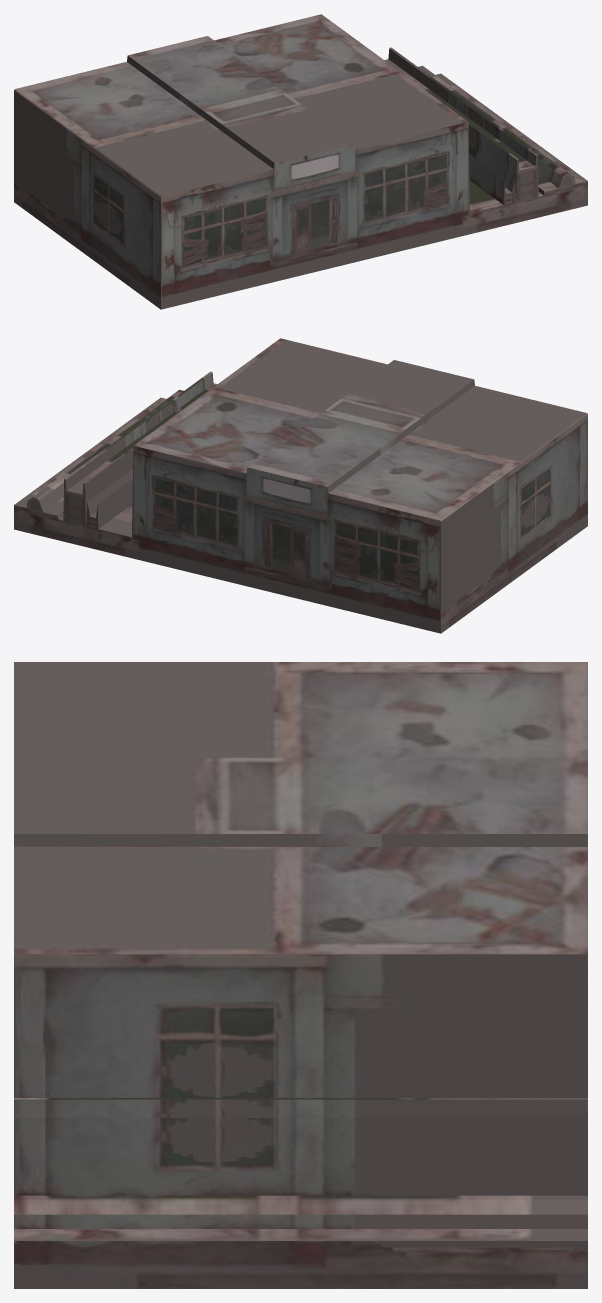
Rendered from bg_industrial_factory_1_lod0.glb.
The picture shows the model from 3 angles, top to bottom: view 1: azimuth 30°, elevation 25°; view 2: azimuth 150°, elevation 25°; view 3: azimuth 270°, elevation 25°; orthographic projection. The views are drawn at different scales.
Parts seen in each view (by area): view 1: body; view 2: body; view 3: body.
Boxes of the visible parts, bbox=[...] form: body: bbox=[14, 14, 587, 309]; body: bbox=[14, 338, 587, 633]; body: bbox=[14, 662, 587, 1288].
Bounding box in the file's own units: 11 × 2.93 × 6.55.
1 material, 1 textured.
